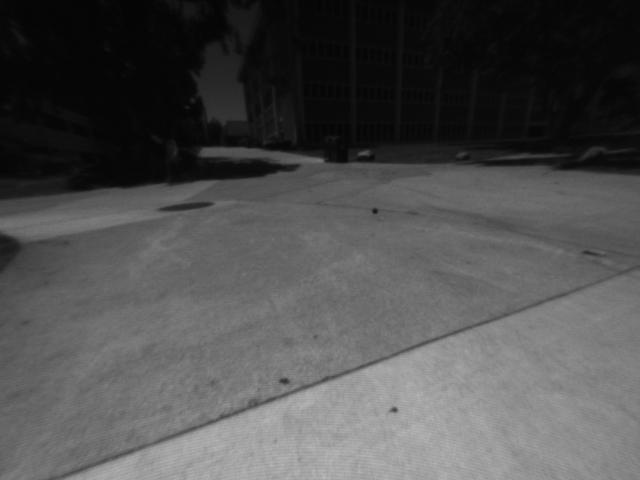dogtoy: (367, 203, 384, 217)
